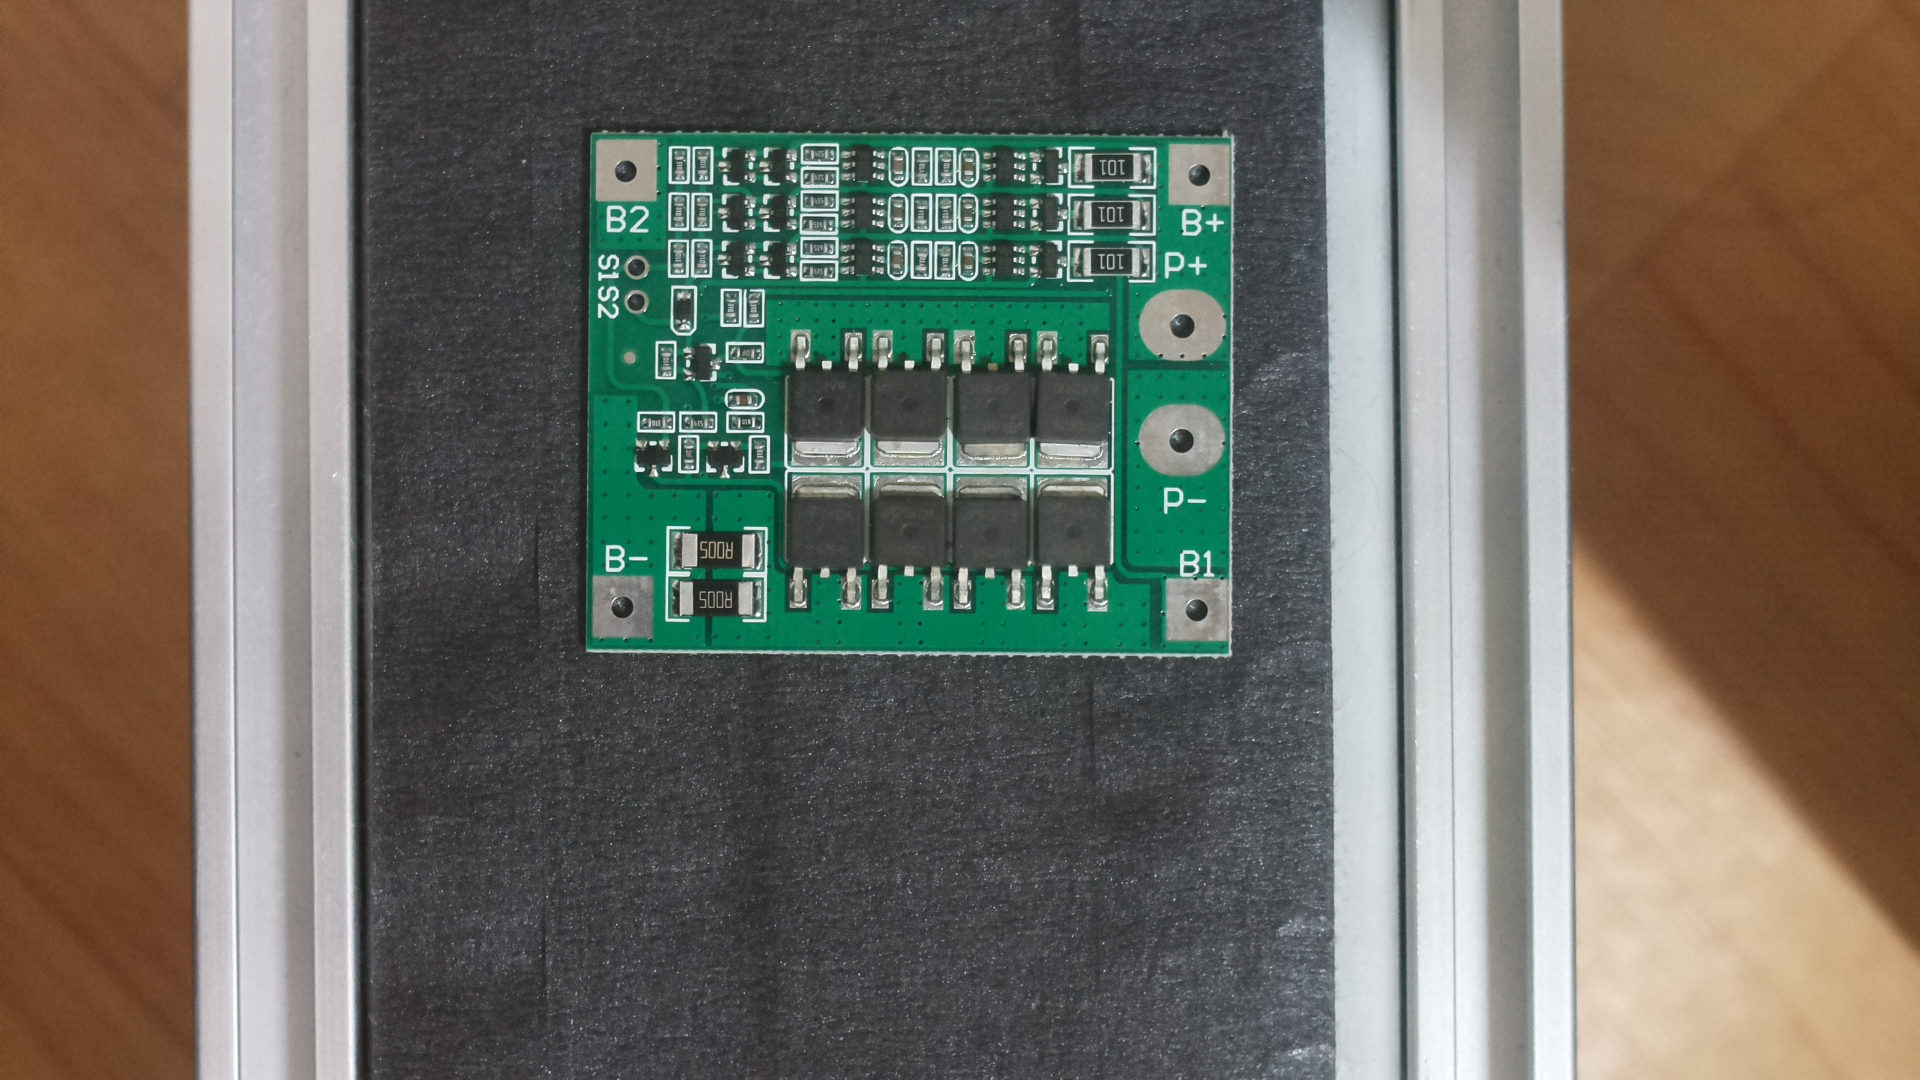C_Normal: (585, 108, 1244, 673)
